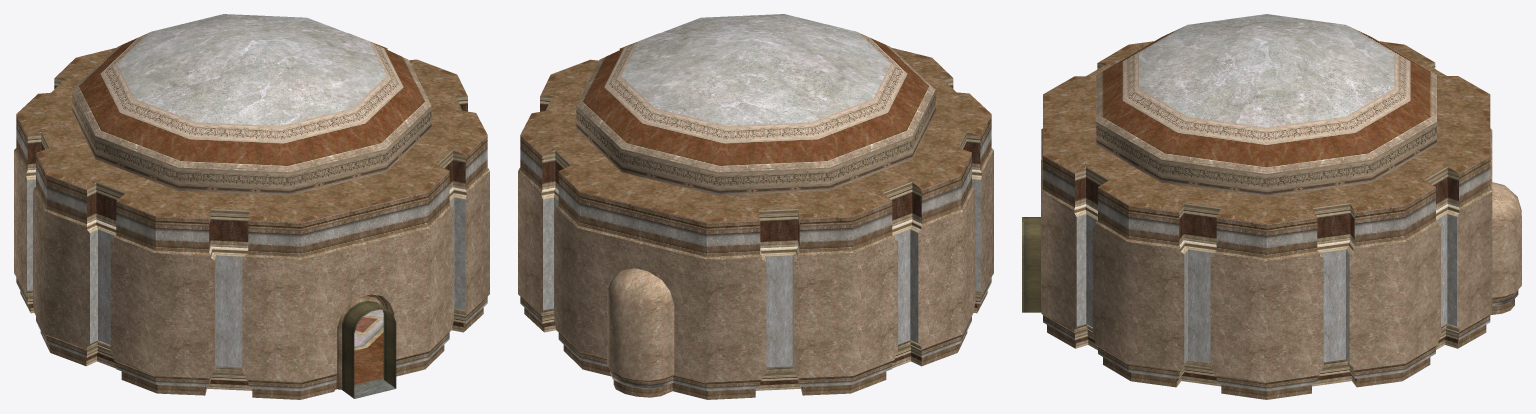
The model's file is thm_nboo_thed_theed_palace_r32_mesh_r32.fbx.
The picture shows the model from 3 angles, left to right: view 1: azimuth 30°, elevation 25°; view 2: azimuth 150°, elevation 25°; view 3: azimuth 270°, elevation 25°; orthographic projection.
Parts seen in each view (by area): view 1: mesh_node; view 2: mesh_node; view 3: mesh_node.
Part boxes in pixels (x1,y1,x2,y2): mesh_node: [14, 14, 489, 399]; mesh_node: [518, 14, 993, 399]; mesh_node: [1022, 14, 1521, 399].
Bounding box in the file's own units: 24.23 × 14.71 × 25.53.
